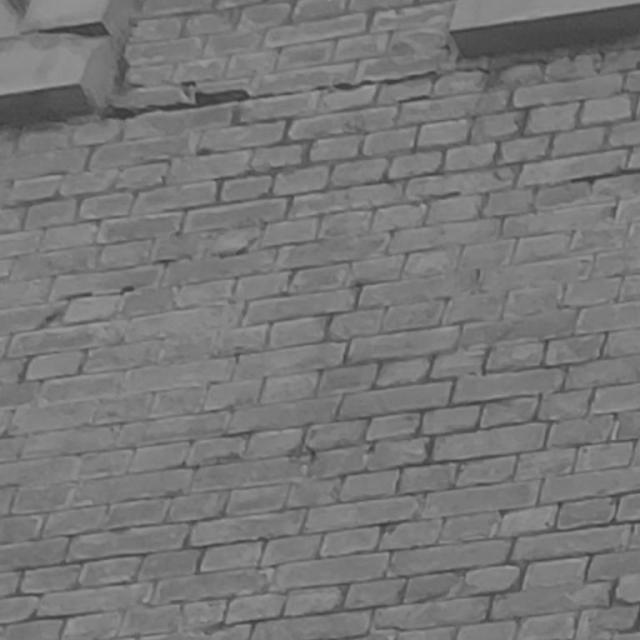crack: (98, 42, 640, 121), (571, 168, 639, 182)
